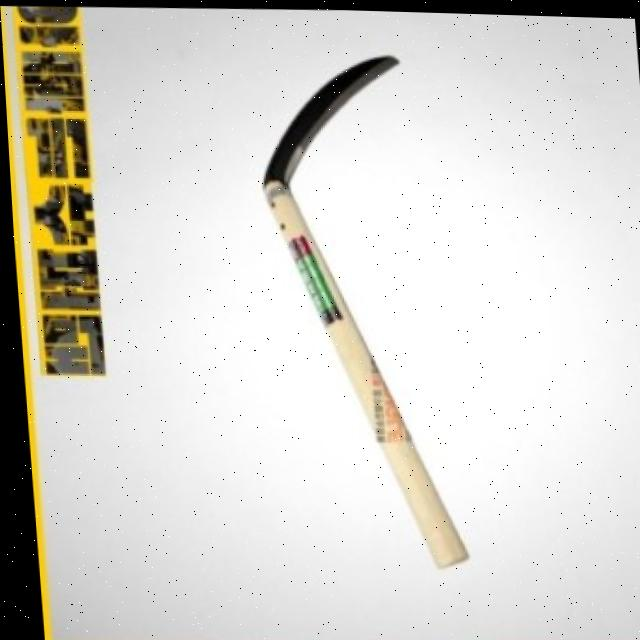sickle: (181, 39, 538, 573)
